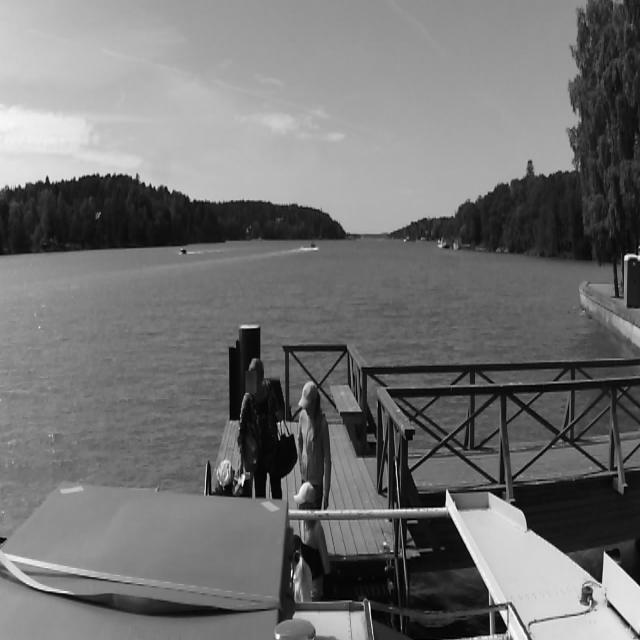ship: (178, 246, 186, 259), (310, 242, 318, 250)
